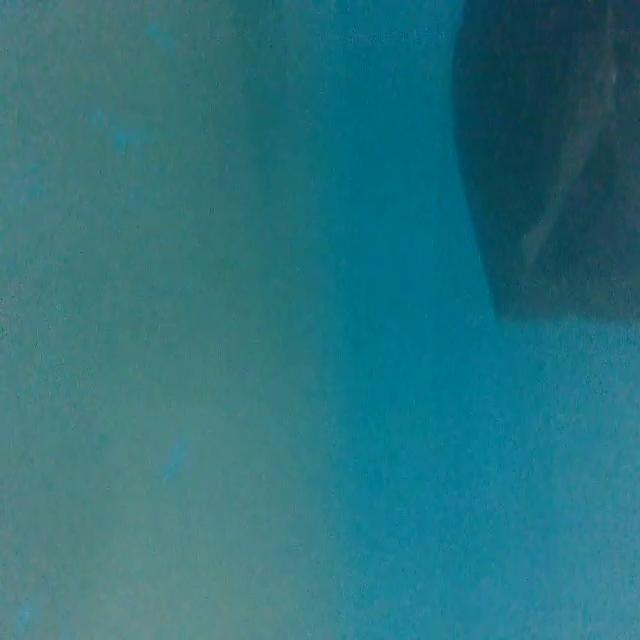plastic bags: (448, 0, 639, 328)
